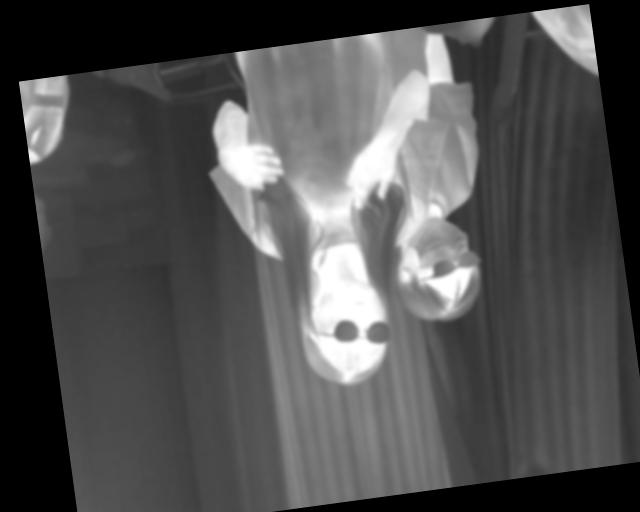face: (292, 269, 398, 392), (392, 212, 488, 328)
